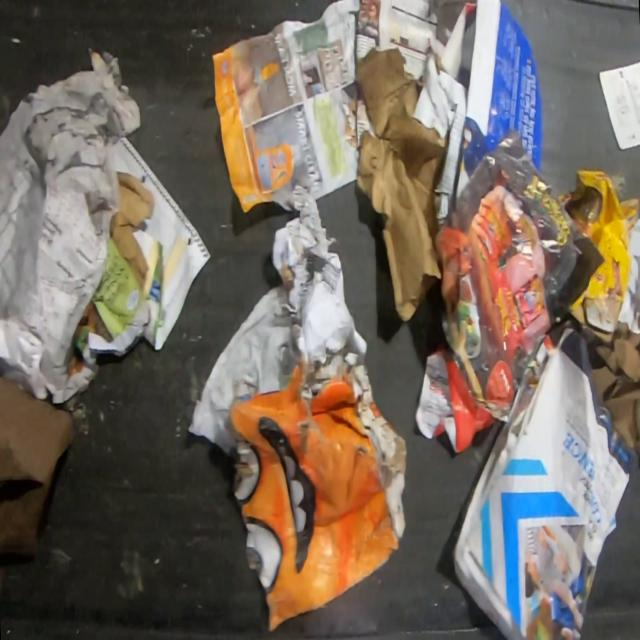cardboard: (226, 355, 408, 635), (355, 45, 448, 324), (455, 0, 544, 203), (555, 166, 639, 335), (110, 171, 154, 292)
